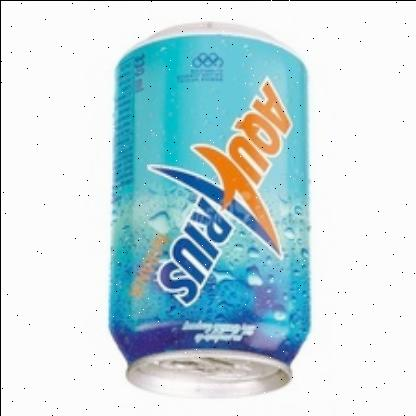Can: (108, 22, 314, 396)
